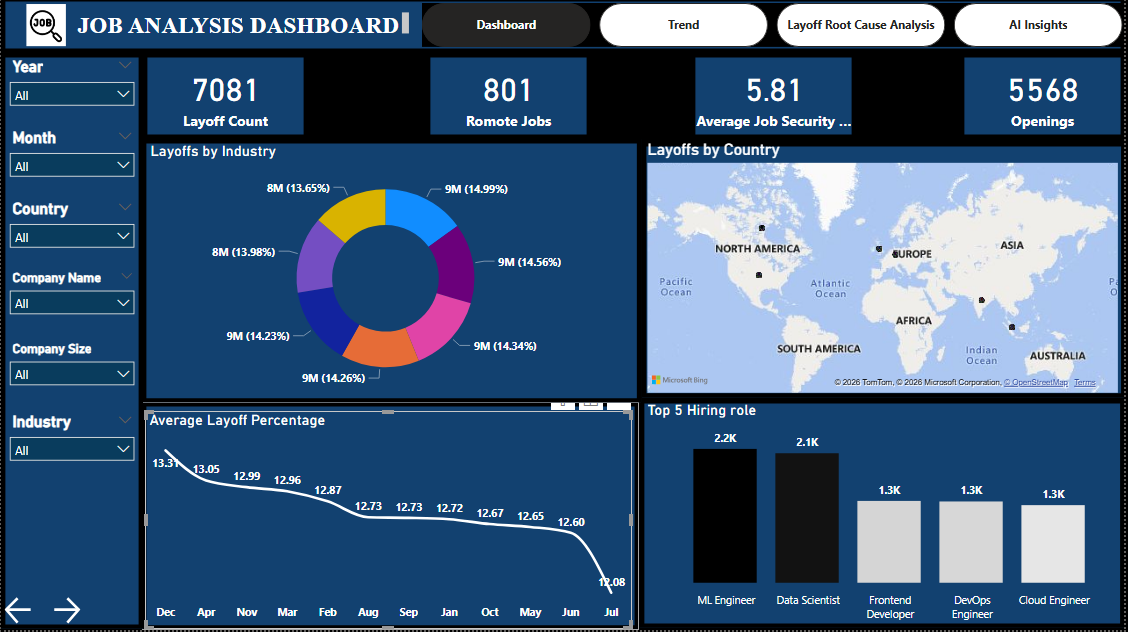

The dashboard page shown, as its layout file describes it:
{"tool":"powerbi","page":{"name":"Dashboard","canvas":[1280,720],"ordinal":0},"visuals":[{"type":"shape","box":[161.8,63.8,188,98],"z":0},{"type":"shape","box":[0,0,1280.5,63.8],"z":1000,"group":"g5"},{"type":"shape","box":[484.2,63.8,188,98],"z":1000},{"type":"textbox","box":[79.6,12.8,390.3,37.2],"z":2000,"group":"g5"},{"type":"shape","box":[786.1,63.8,188,98],"z":2000},{"type":"image","box":[24.4,0,55.2,64.2],"z":3000,"group":"g5"},{"type":"shape","box":[1092.5,63.8,188,98],"z":3000},{"type":"shape","box":[0,63.8,161.8,656.2],"z":4000,"group":"g6"},{"type":"card","fields":{"Values":["Count(Job_Analysis.layoffs_count)"]},"box":[176.6,63.8,158.4,98],"z":4000},{"type":"card","fields":{"Values":["Count(Job_Analysis.remote_jobs_percentage)"]},"box":[499,63.8,158.4,98],"z":5000},{"type":"card","fields":{"Values":["Avg(Job_Analysis.job_security_score)"]},"box":[785.7,64.2,188.7,97.6],"z":6000},{"type":"card","fields":{"Values":["Count(Job_Analysis.open_roles)"]},"box":[1107.3,63.8,158.4,98],"z":7000},{"type":"group","id":"g1","title":"Group 1","box":[727.9,458.3,552.1,261.9],"z":8000},{"type":"group","id":"g2","title":"Group 2","box":[160.5,460.9,566.2,259.3],"z":9000},{"type":"group","id":"g3","title":"Group 2","box":[160.5,161.8,568.7,300.4],"z":10000},{"type":"shape","box":[160.5,161.8,568.7,300.4],"z":11000,"group":"g7"},{"type":"donutChart","title":"Layoffs by Industry","fields":{"Y":["Sum(Job_Analysis.layoffs_count)"],"Category":["Job_Analysis.industry"]},"box":[165.6,165.6,545.6,291.4],"z":11000},{"type":"shape","box":[730.5,165.8,550.8,291.3],"z":11000,"group":"g8"},{"type":"shape","box":[160.5,460.9,566.2,259.3],"z":11000,"group":"g10"},{"type":"slicer","fields":{"Values":["Job_Analysis.year"]},"box":[0,63.8,161.8,80.9],"z":12000,"group":"g6"},{"type":"group","id":"g4","title":"Group 2","box":[730.5,163.1,550.8,294],"z":12000},{"type":"group","id":"g5","title":"Group 5","box":[0,0,1280.5,64.2],"z":13000},{"type":"slicer","fields":{"Values":["Job_Analysis.month"]},"box":[0,144.7,161.8,80.9],"z":13000,"group":"g6"},{"type":"group","id":"g6","title":"Group 6","box":[0,63.8,161.8,656.2],"z":14000},{"type":"slicer","fields":{"Values":["Job_Analysis.country"]},"box":[0,225.6,161.8,80.9],"z":14000,"group":"g6"},{"type":"slicer","fields":{"Values":["Job_Analysis.company_name"]},"box":[0,306.5,161.8,80.9],"z":15000,"group":"g6"},{"type":"actionButton","box":[0,679.2,55.2,39.8],"z":15000},{"type":"slicer","fields":{"Values":["Job_Analysis.company_size"]},"box":[0,387.3,161.8,80.9],"z":16000,"group":"g6"},{"type":"actionButton","box":[55.2,679.2,47.5,39.8],"z":16000},{"type":"pageNavigator","box":[480.2,6.4,799.8,50.1],"z":16001},{"type":"slicer","fields":{"Values":["Job_Analysis.industry"]},"box":[0,468.2,161.8,80.9],"z":17000,"group":"g6"},{"type":"lineChart","title":"Average Layoff Percentage","fields":{"Category":["Job_Analysis.month"],"Y":["Avg(Job_Analysis.layoff_percentage)"]},"box":[163.7,471.3,554.6,247.8],"z":19000,"group":"g10"},{"type":"shape","box":[727.9,458.3,552,260.6],"z":20000,"group":"g9"},{"type":"columnChart","title":"Top 5 Hiring role","fields":{"Y":["CountNonNull(Job_Analysis.company_name)"],"Category":["Job_Analysis.top_hiring_role"]},"box":[730.8,461.1,548.2,258.1],"z":21000,"group":"g9"},{"type":"group","id":"g7","title":"Group 4","box":[160.5,161.8,568.7,300.4],"z":21003,"group":"g3"},{"type":"group","id":"g8","title":"Group 4","box":[730.5,165.8,550.8,291.3],"z":21003,"group":"g4"},{"type":"group","id":"g9","title":"Group 3","box":[727.9,458.3,552,260.8],"z":21003,"group":"g1"},{"type":"group","id":"g10","title":"Group 4","box":[160.5,460.9,566.2,259.3],"z":21003,"group":"g2"},{"type":"map","title":"Layoffs by Country","fields":{"Category":["Job_Analysis.country"],"Series":["Job_Analysis.layoffs_count"],"Y":["Min(Job_Analysis.country)"]},"box":[732.2,163.1,545.7,292.8],"z":22002,"group":"g4"}]}

Visuals, with their boxes in screenshot pixels (x1, y1, x2, y2), scaled from the page's 1280x720 canvas onto the 1128x632 screenshot:
shape: bbox=(143, 56, 308, 142)
shape: bbox=(0, 0, 1127, 56)
shape: bbox=(427, 56, 592, 142)
textbox: bbox=(70, 11, 414, 44)
shape: bbox=(693, 56, 858, 142)
image: bbox=(22, 0, 70, 56)
shape: bbox=(963, 56, 1127, 142)
shape: bbox=(0, 56, 143, 631)
card - Count(Job_Analysis.layoffs_count): bbox=(156, 56, 295, 142)
card - Count(Job_Analysis.remote_jobs_percentage): bbox=(440, 56, 579, 142)
card - Avg(Job_Analysis.job_security_score): bbox=(692, 56, 859, 142)
card - Count(Job_Analysis.open_roles): bbox=(976, 56, 1115, 142)
"Group 1" group: bbox=(641, 402, 1127, 631)
"Group 2" group: bbox=(141, 405, 640, 631)
"Group 2" group: bbox=(141, 142, 643, 406)
shape: bbox=(141, 142, 643, 406)
"Layoffs by Industry" donutChart: bbox=(146, 145, 627, 401)
shape: bbox=(644, 146, 1127, 401)
shape: bbox=(141, 405, 640, 631)
slicer - Job_Analysis.year: bbox=(0, 56, 143, 127)
"Group 2" group: bbox=(644, 143, 1127, 401)
"Group 5" group: bbox=(0, 0, 1127, 56)
slicer - Job_Analysis.month: bbox=(0, 127, 143, 198)
"Group 6" group: bbox=(0, 56, 143, 631)
slicer - Job_Analysis.country: bbox=(0, 198, 143, 269)
slicer - Job_Analysis.company_name: bbox=(0, 269, 143, 340)
actionButton: bbox=(0, 596, 49, 631)
slicer - Job_Analysis.company_size: bbox=(0, 340, 143, 411)
actionButton: bbox=(49, 596, 91, 631)
pageNavigator: bbox=(423, 6, 1127, 50)
slicer - Job_Analysis.industry: bbox=(0, 411, 143, 482)
"Average Layoff Percentage" lineChart: bbox=(144, 414, 633, 631)
shape: bbox=(641, 402, 1127, 631)
"Top 5 Hiring role" columnChart: bbox=(644, 405, 1127, 631)
"Group 4" group: bbox=(141, 142, 643, 406)
"Group 4" group: bbox=(644, 146, 1127, 401)
"Group 3" group: bbox=(641, 402, 1127, 631)
"Group 4" group: bbox=(141, 405, 640, 631)
"Layoffs by Country" map: bbox=(645, 143, 1126, 400)
